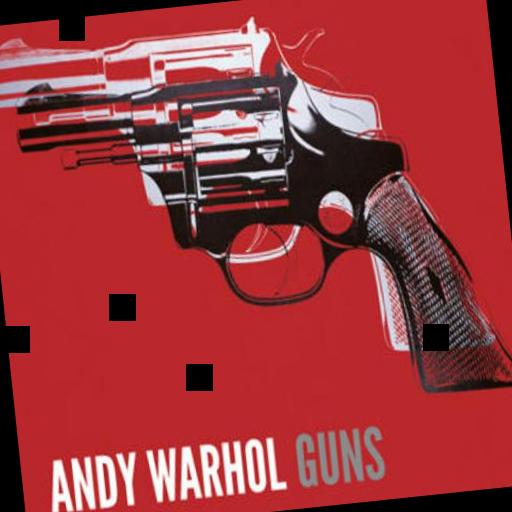Handgun: (11, 31, 512, 435), (0, 0, 497, 395)
